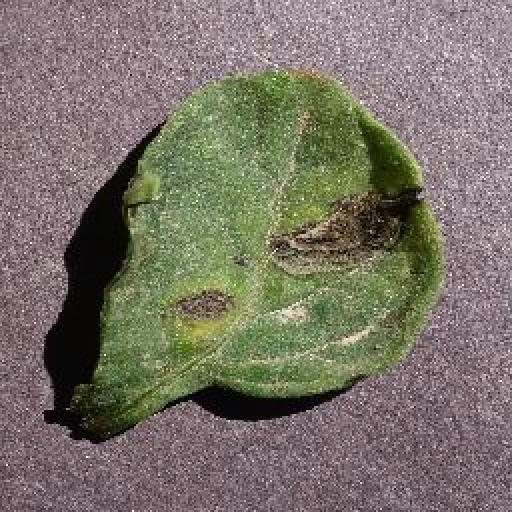disease_tomato: (62, 67, 446, 437)
